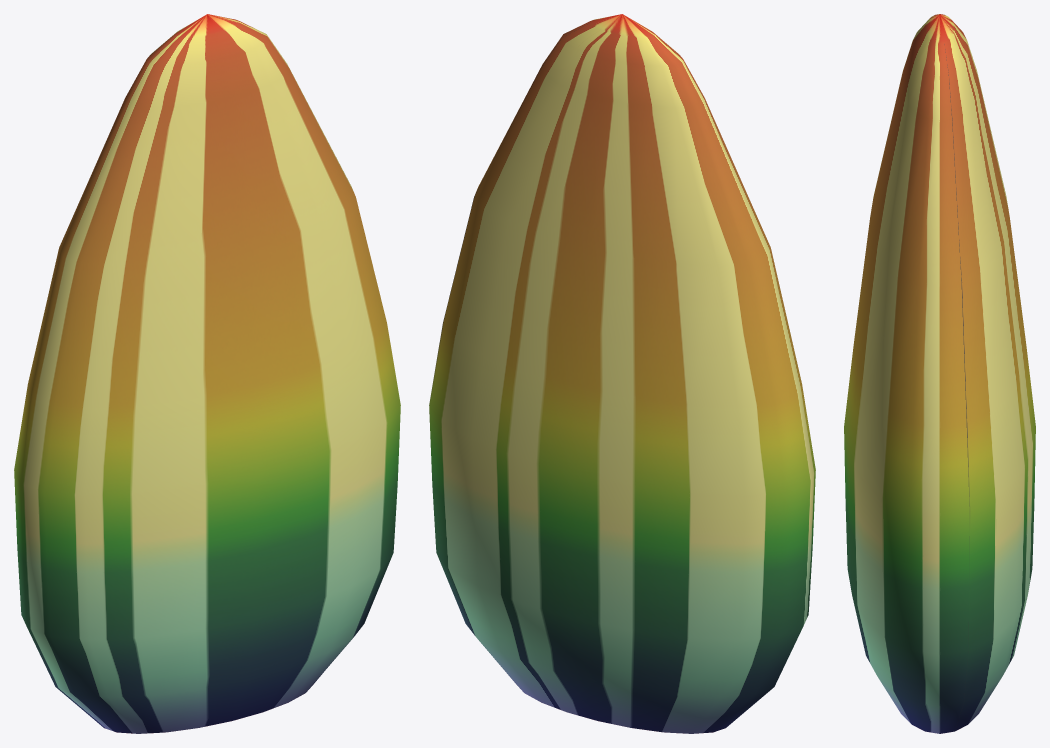
File: Seed.fbx
3 renders of one model, left to right at view 1: azimuth 30°, elevation 25°; view 2: azimuth 150°, elevation 25°; view 3: azimuth 270°, elevation 25°, orthographic. The views are drawn at different scales.
Visible parts, largest first — view 1: seed; view 2: seed; view 3: seed.
Boxes of the visible parts, bbox=[...] form: seed: bbox=[14, 14, 400, 733]; seed: bbox=[429, 14, 815, 733]; seed: bbox=[844, 14, 1035, 733].
Size of the model in its own units: 18.69 by 33.82 by 8.53.
